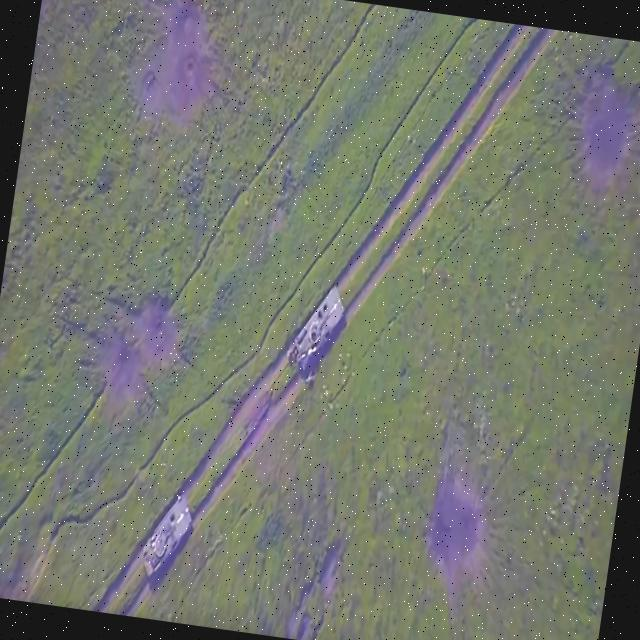AIFV: (285, 279, 352, 385), (139, 487, 200, 593)
